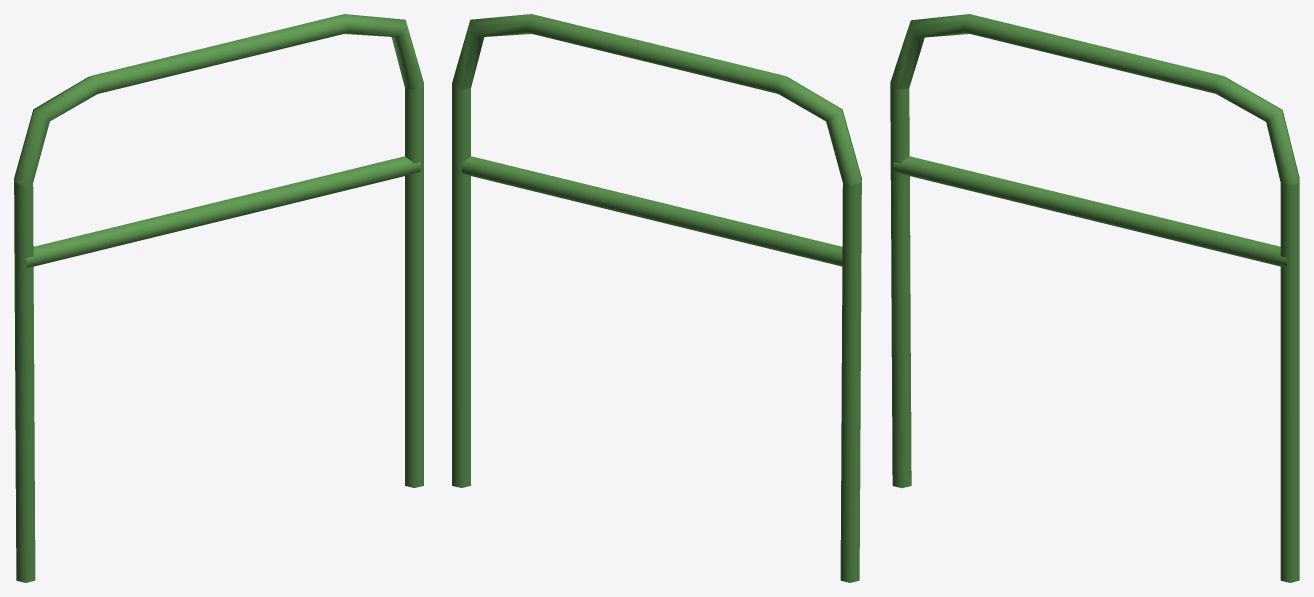
File: parapet fence sm lod1.FBX
3 views of the same model, side by side, from view 1: azimuth 30°, elevation 25°; view 2: azimuth 150°, elevation 25°; view 3: azimuth 330°, elevation 25° (orthographic).
Visible parts, largest first — view 1: Object352; view 2: Object352; view 3: Object352.
Part boxes in pixels (left/top/right/bottom): Object352: left=14, top=14, right=423, bottom=582; Object352: left=452, top=14, right=861, bottom=582; Object352: left=890, top=14, right=1299, bottom=582.
Size of the model in its own units: 0.862 by 0.9782 by 0.0346.
